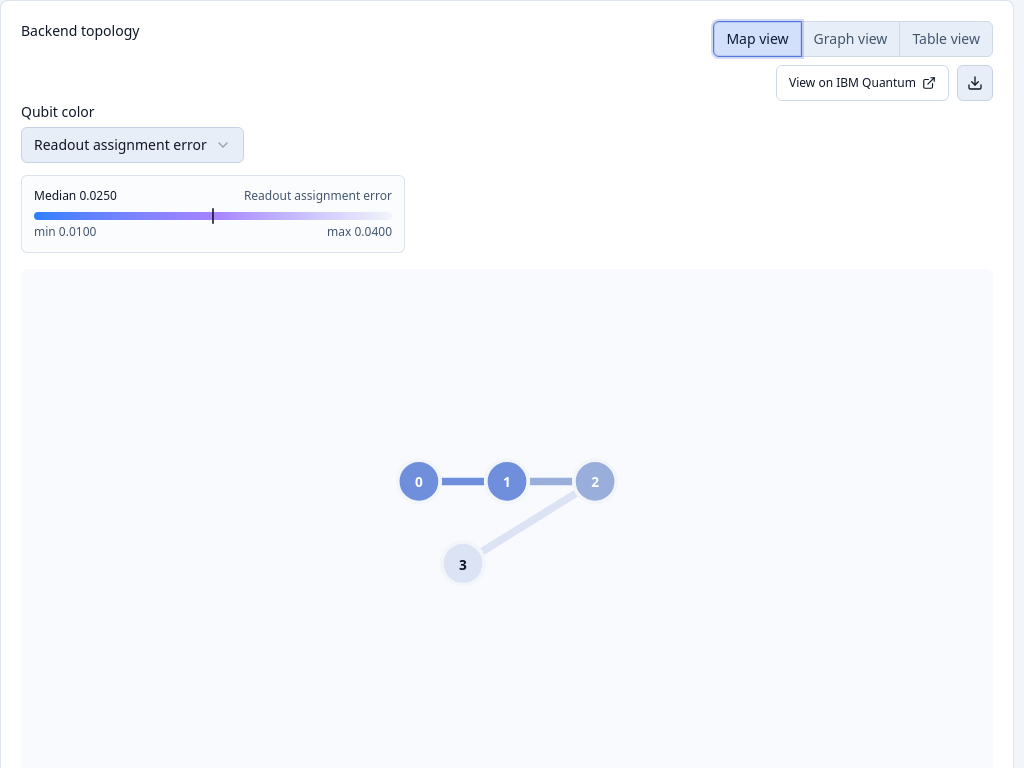
BackendTopologyPanel › defaults qubit color to readout assignment error and omits a none option
The width and height of the screenshot is (1024, 768).
Click the dropdown labelled "Readout assignment error". click: (132,145)
box: 21,127 -> 244,163
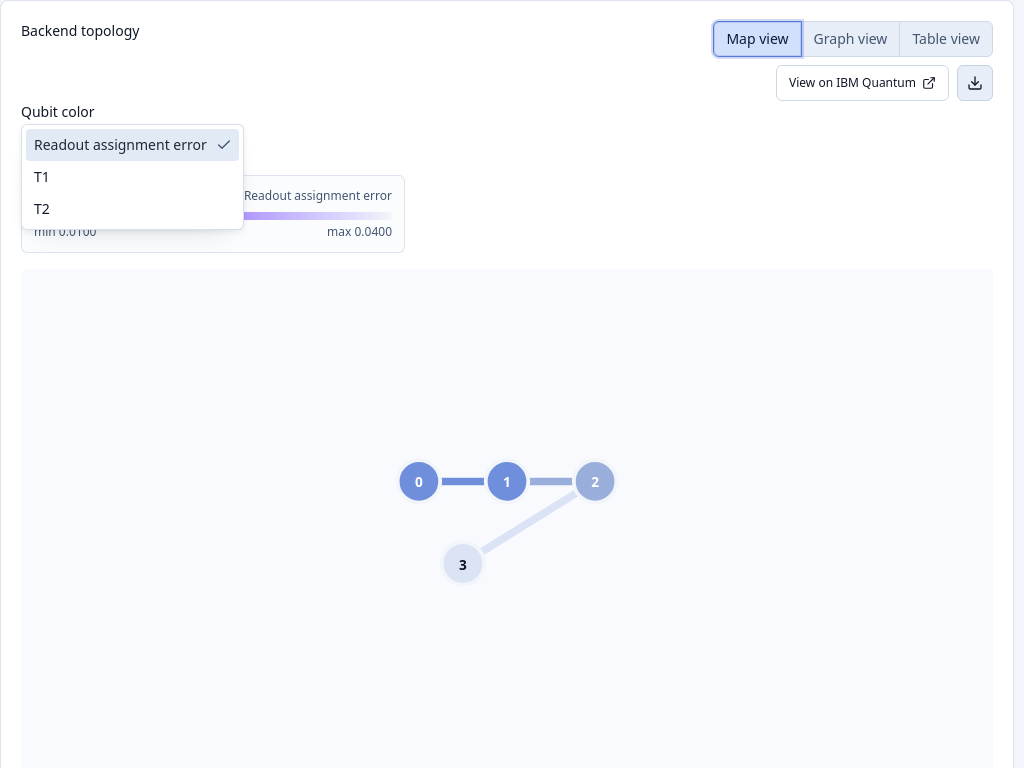
Expected: the option "Readout assignment error" is shown, 26,129 -> 239,161
